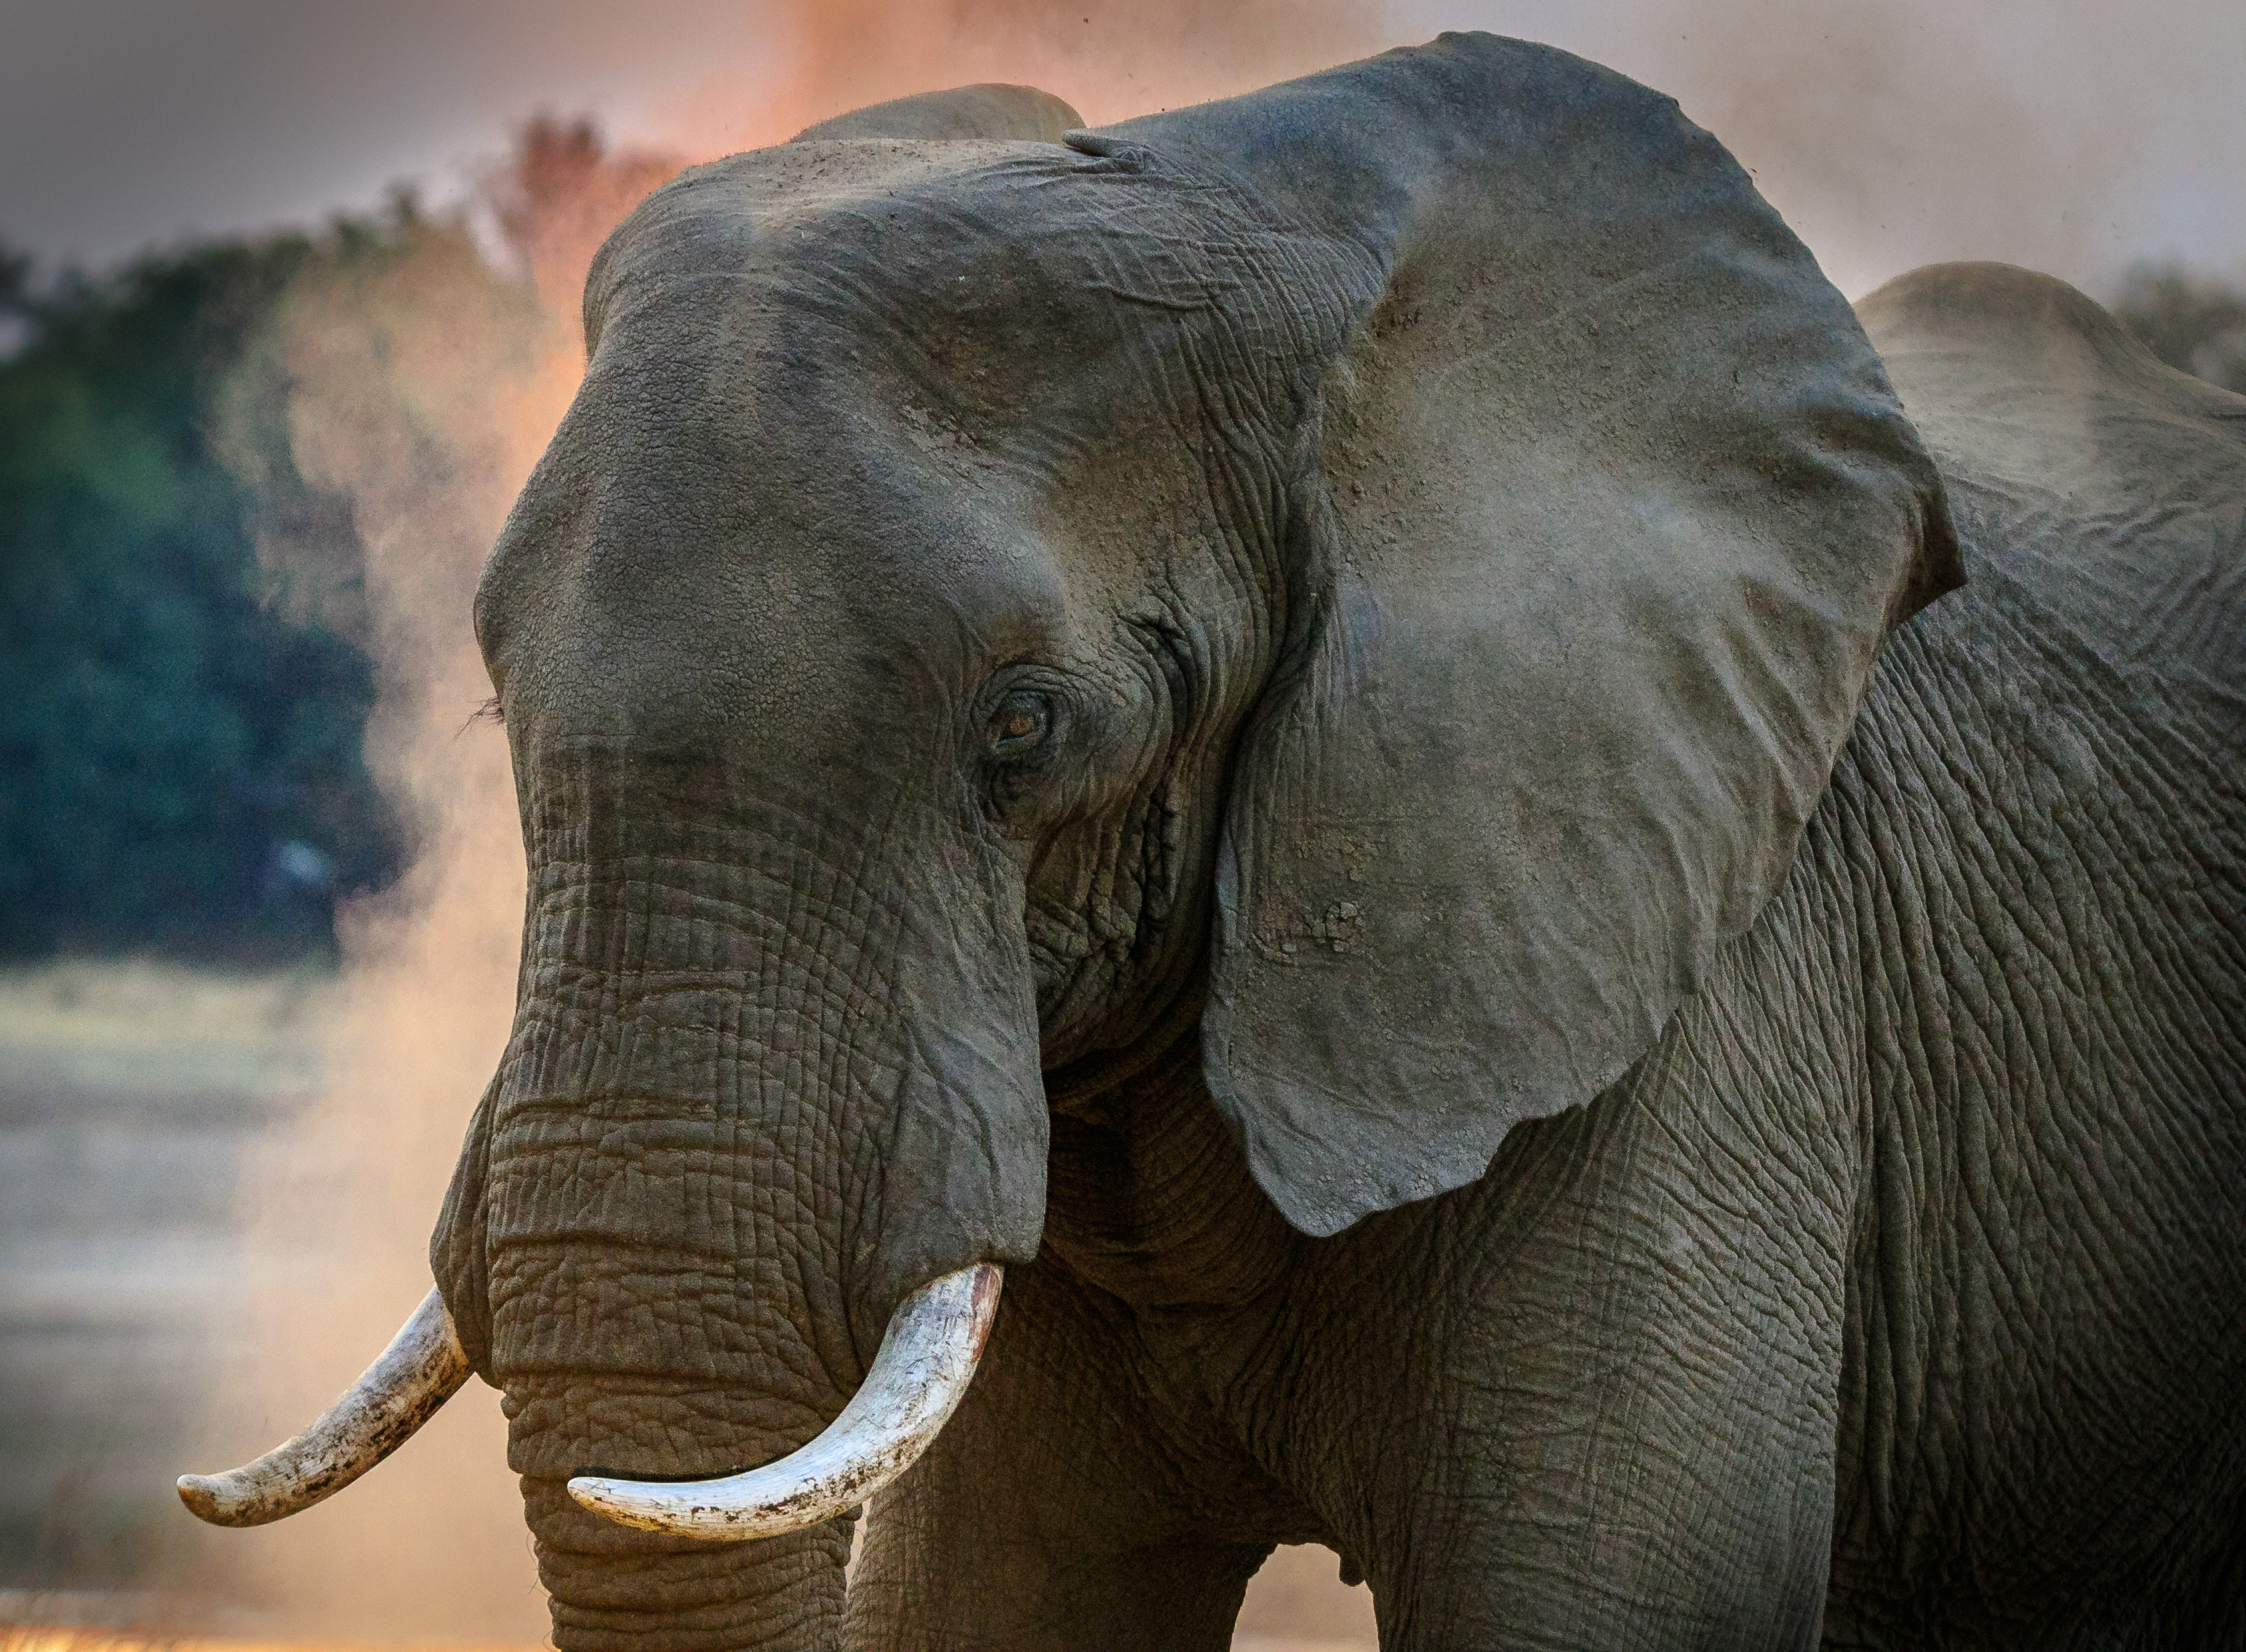elephant: (169, 33, 2246, 1652)
